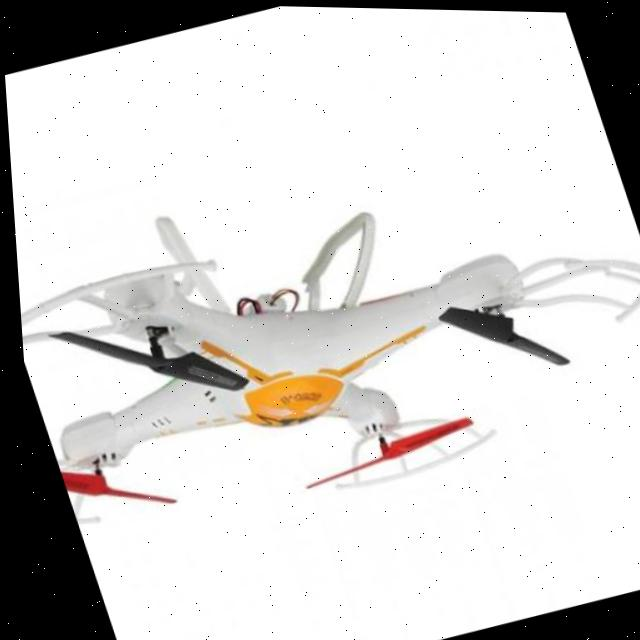drones: (4, 77, 640, 575)
